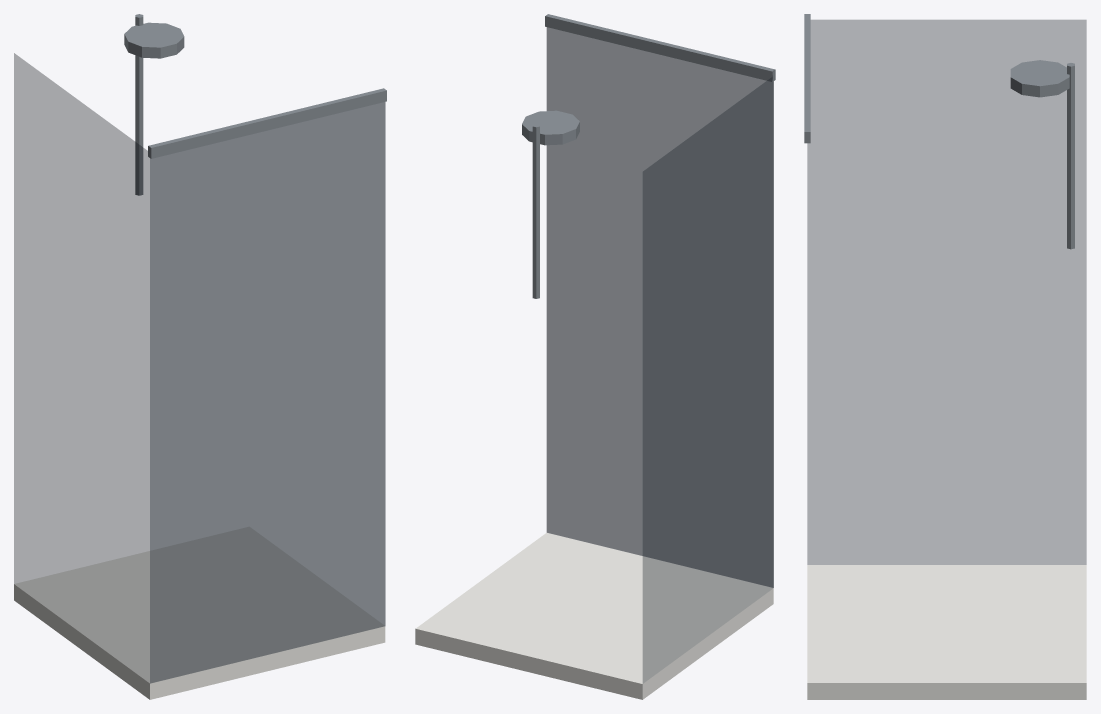
The model's file is Shower.obj.
3 renders of one model, left to right at view 1: azimuth 30°, elevation 25°; view 2: azimuth 150°, elevation 25°; view 3: azimuth 270°, elevation 25°, orthographic. The views are drawn at different scales.
Parts seen in each view (by area): view 1: Shower; view 2: Shower; view 3: Shower.
Part boxes in pixels (left/top/right/bottom): Shower: left=14, top=14, right=386, bottom=699; Shower: left=415, top=14, right=775, bottom=699; Shower: left=804, top=14, right=1086, bottom=699.
Size of the model in its own units: 0.9012 by 2.05 by 0.91.
